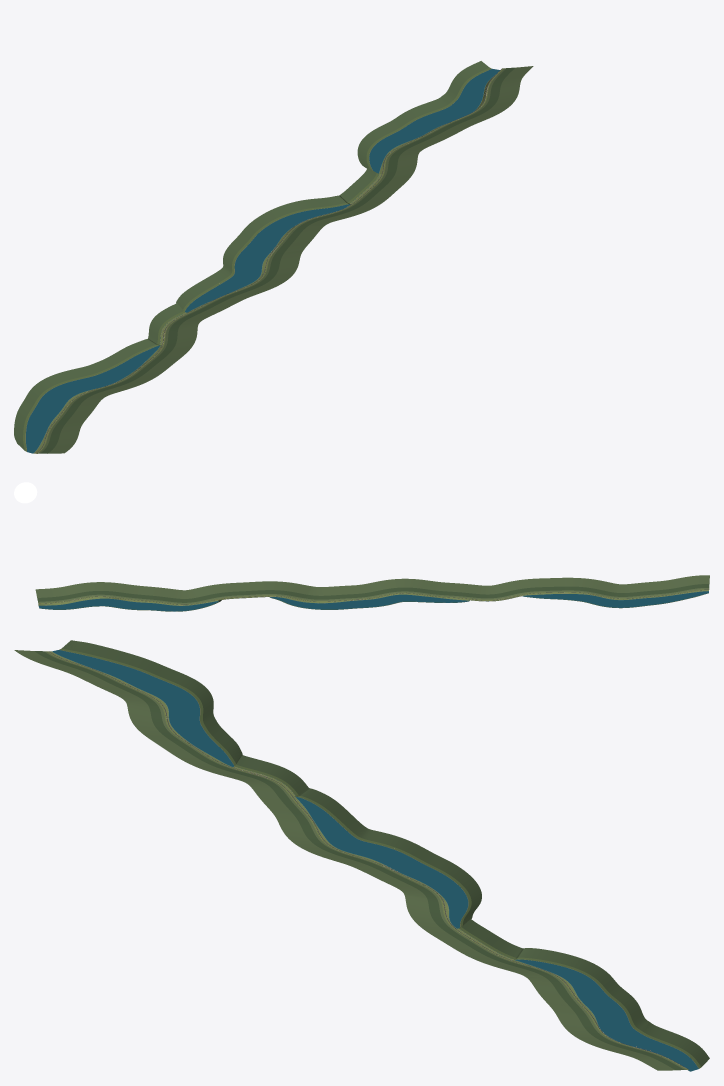
The model's file is engadin.glb.
The picture shows the model from 3 angles, top to bottom: view 1: azimuth 30°, elevation 25°; view 2: azimuth 150°, elevation 25°; view 3: azimuth 270°, elevation 25°; orthographic projection. The views are drawn at different scales.
Parts seen in each view (by area): view 1: Land_003, Land_013, Land_014, Land_022, Land_024, Land_002, Land_012, Land_015, Land_020, Land_021, Land_001, Land_004 (+14 smaller); view 2: Land_023, Land_011, Land_012, Land_021, Land_022, Land_004, Land_002, Land_005, Land_013, Land_014, Land_024, Land_003 (+15 smaller); view 3: Land_003, Land_013, Land_022, Land_002, Land_020, Land_021, Land_001, Land_014, Land_004, Land_012, Land_015, Land_010 (+14 smaller).
Part boxes in pixels (x1,y1,x2,y2): Land_003: (29,371,111,404); Land_013: (224,233,310,261); Land_014: (241,215,323,244); Land_022: (404,100,488,130); Land_024: (445,76,521,102); Land_002: (18,392,99,420); Land_012: (223,253,300,277); Land_015: (261,200,340,228); Land_020: (358,125,432,156); Land_021: (382,113,462,144); Land_001: (14,410,87,437); Land_004: (67,363,149,393); Land_023: (80,582,119,606); Land_011: (394,578,431,602); Land_012: (365,579,401,606); Land_021: (137,586,171,610); Land_022: (109,583,143,609); Land_004: (577,578,613,605); Land_002: (628,581,661,607); Land_005: (553,577,584,600); Land_013: (344,584,381,608); Land_014: (320,586,350,609); Land_024: (57,583,94,609); Land_003: (597,583,634,608); Land_003: (117,674,213,712); Land_013: (347,838,439,876); Land_022: (549,996,643,1028); Land_002: (86,660,183,695); Land_020: (523,956,613,990); Land_021: (533,980,631,1009); Land_001: (59,646,149,680); Land_014: (374,856,468,890); Land_004: (127,703,214,731); Land_012: (305,829,401,864); Land_015: (400,875,481,910); Land_010: (268,800,357,830).
Size of the model in its own units: 23775 by 2450 by 14197.
